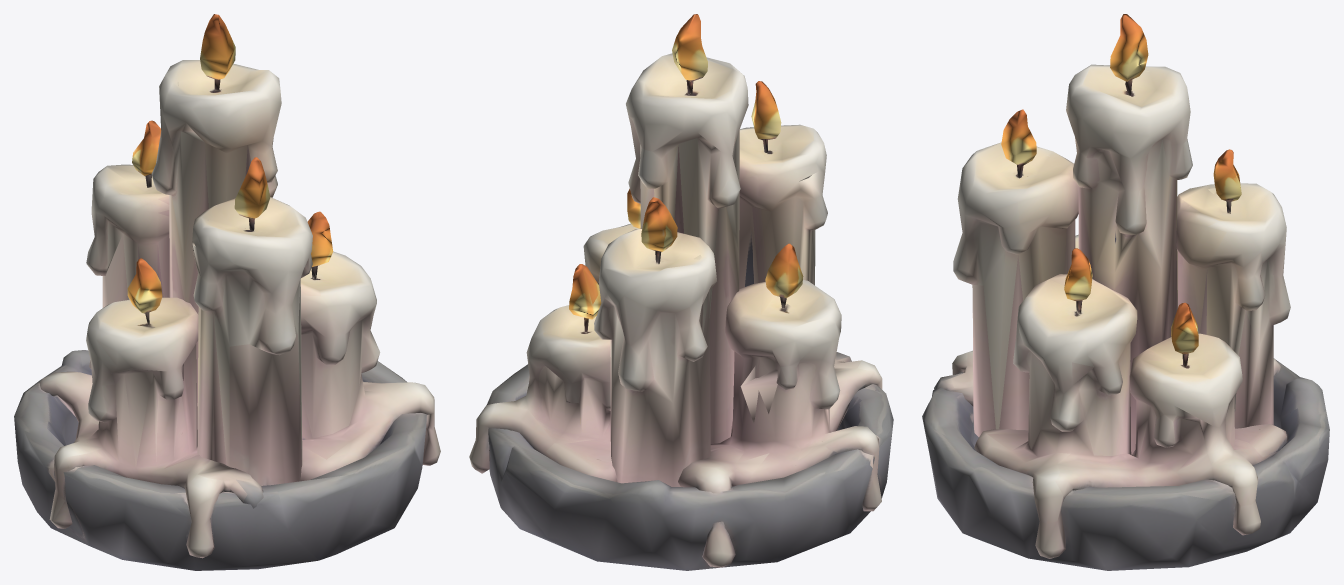
The model's file is L10_CandleCluster_LOD1.fbx.
3 views of the same model, side by side, from view 1: azimuth 30°, elevation 25°; view 2: azimuth 150°, elevation 25°; view 3: azimuth 270°, elevation 25° (orthographic).
Visible parts, largest first — view 1: PART_Body.001, PART_Flame_11.001, PART_Flame_08.001, PART_Flame_10.001, PART_Flame_06.001, PART_Flame_07.001; view 2: PART_Body.001, PART_Flame_11.001, PART_Flame_06.001, PART_Flame_10.001, PART_Flame_09.001, PART_Flame_08.001; view 3: PART_Body.001, PART_Flame_11.001, PART_Flame_08.001, PART_Flame_07.001, PART_Flame_09.001, PART_Flame_06.001.
Part boxes in pixels (box(x1,y1,x2,y2)): PART_Body.001: box(14, 60, 440, 570); PART_Flame_11.001: box(200, 14, 235, 79); PART_Flame_08.001: box(234, 157, 270, 219); PART_Flame_10.001: box(127, 258, 162, 313); PART_Flame_06.001: box(132, 120, 161, 176); PART_Flame_07.001: box(307, 211, 333, 267); PART_Body.001: box(469, 53, 893, 570); PART_Flame_11.001: box(672, 14, 707, 80); PART_Flame_06.001: box(641, 197, 677, 251); PART_Flame_10.001: box(765, 243, 803, 298); PART_Flame_09.001: box(569, 264, 601, 319); PART_Flame_08.001: box(751, 81, 781, 140); PART_Body.001: box(922, 64, 1329, 570); PART_Flame_11.001: box(1110, 14, 1148, 81); PART_Flame_08.001: box(1001, 109, 1036, 165); PART_Flame_07.001: box(1064, 248, 1092, 301); PART_Flame_09.001: box(1171, 302, 1198, 354); PART_Flame_06.001: box(1213, 149, 1241, 201).
Size of the model in its own units: 0.2746 by 0.3498 by 0.2725.
Materials: 7 (7 with a texture image).
